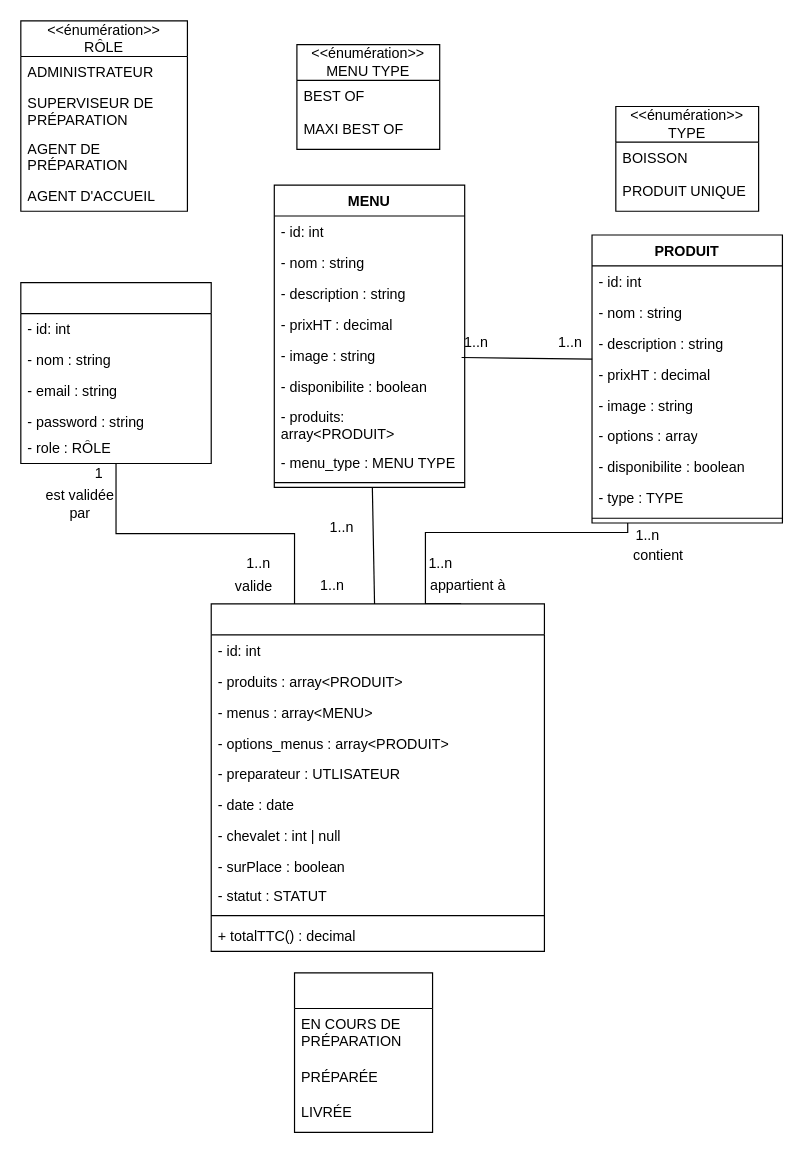
This 803x1157 diagram has some shape labels left out. Here are the shapes that lost their labels. From the top down, the box of each, then its label:
(20, 281, 211, 464): UTILISATEUR
(210, 603, 544, 951): COMMANDE
(293, 972, 433, 1132): <<énumération>> STATUT
